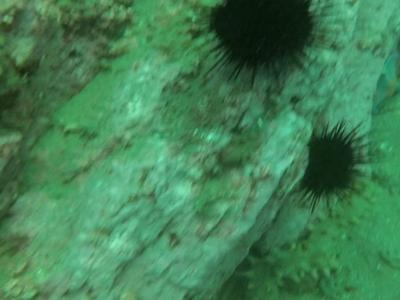holothurian: (235, 190, 370, 292)
urchin: (200, 2, 327, 95), (292, 115, 365, 206)
